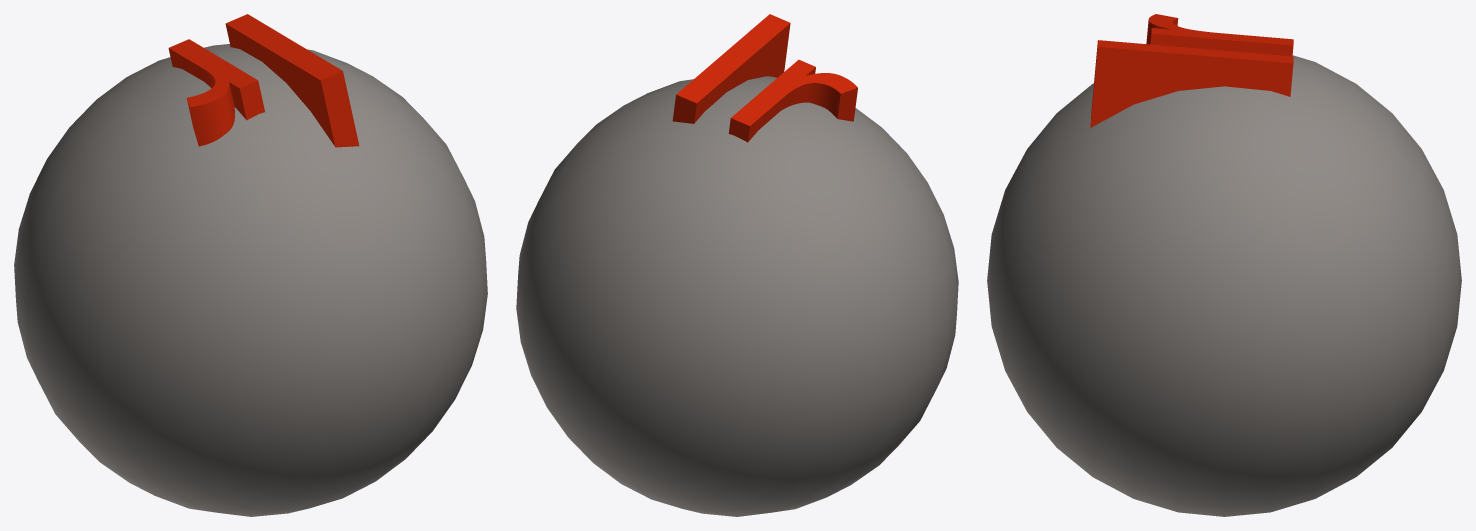
3 renders of one model, left to right at view 1: azimuth 30°, elevation 25°; view 2: azimuth 150°, elevation 25°; view 3: azimuth 270°, elevation 25°, orthographic. The views are drawn at different scales.
Parts seen in each view (by area): view 1: Ir; view 2: Ir; view 3: Ir.
Boxes of the visible parts, x1,y1,x2,y2 form: Ir: (14,14,487,516); Ir: (516,14,958,516); Ir: (987,14,1461,516).
Bounding box in the file's own units: 38.71 × 41.66 × 38.75.
